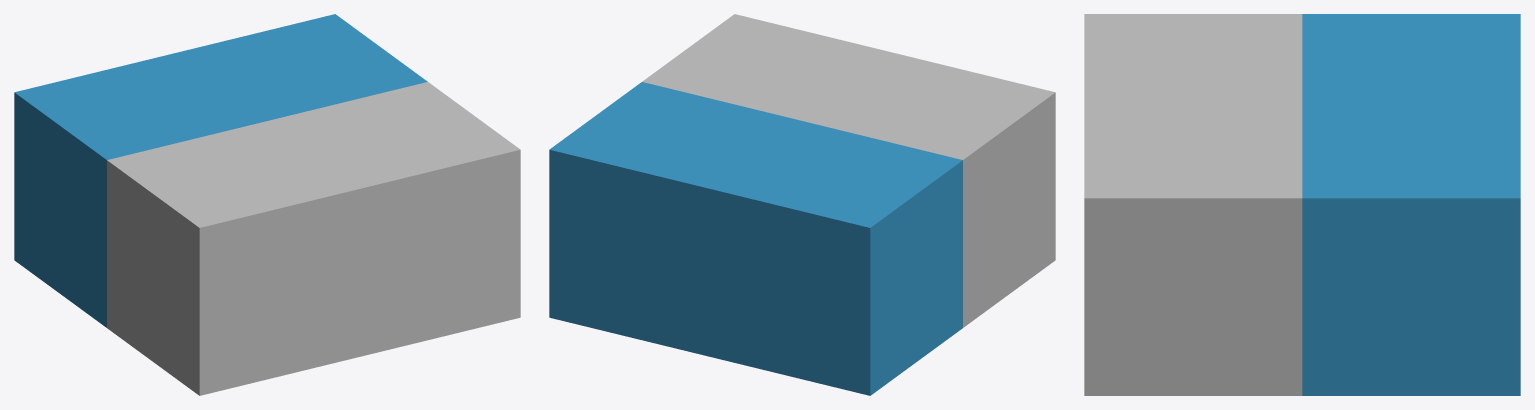
Rendered from spaceman_level_6.glb.
3 renders of one model, left to right at view 1: azimuth 30°, elevation 25°; view 2: azimuth 150°, elevation 25°; view 3: azimuth 270°, elevation 25°, orthographic. The views are drawn at different scales.
Bounding box in the file's own units: 2 × 1 × 2.
